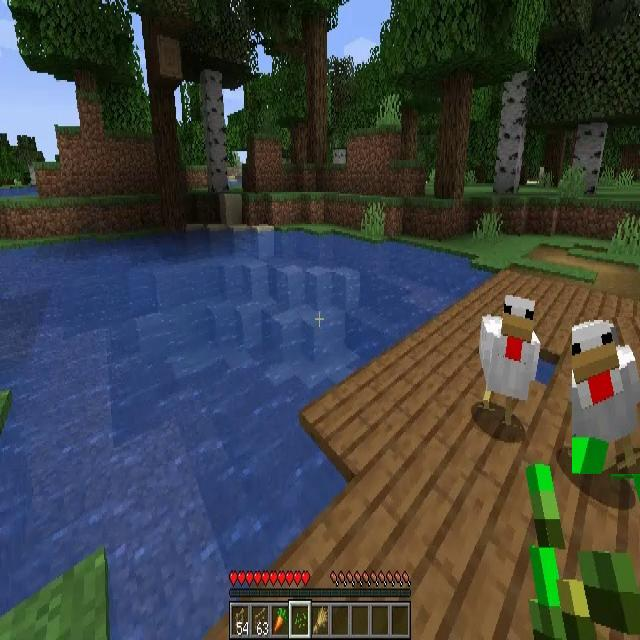duck: (572, 317, 640, 474), (482, 294, 540, 428)
